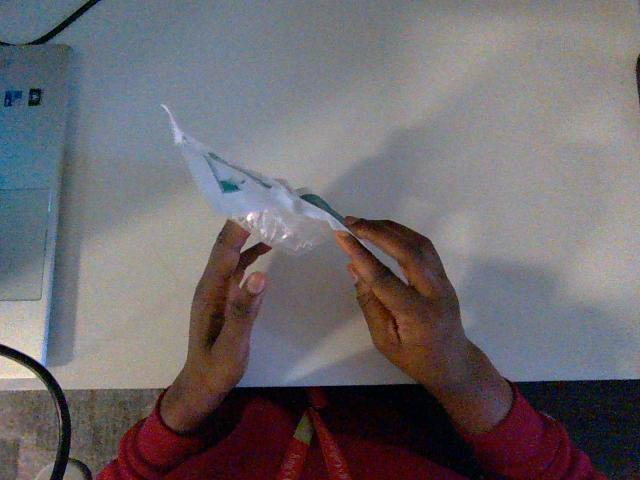gallipot: (163, 105, 346, 254)
